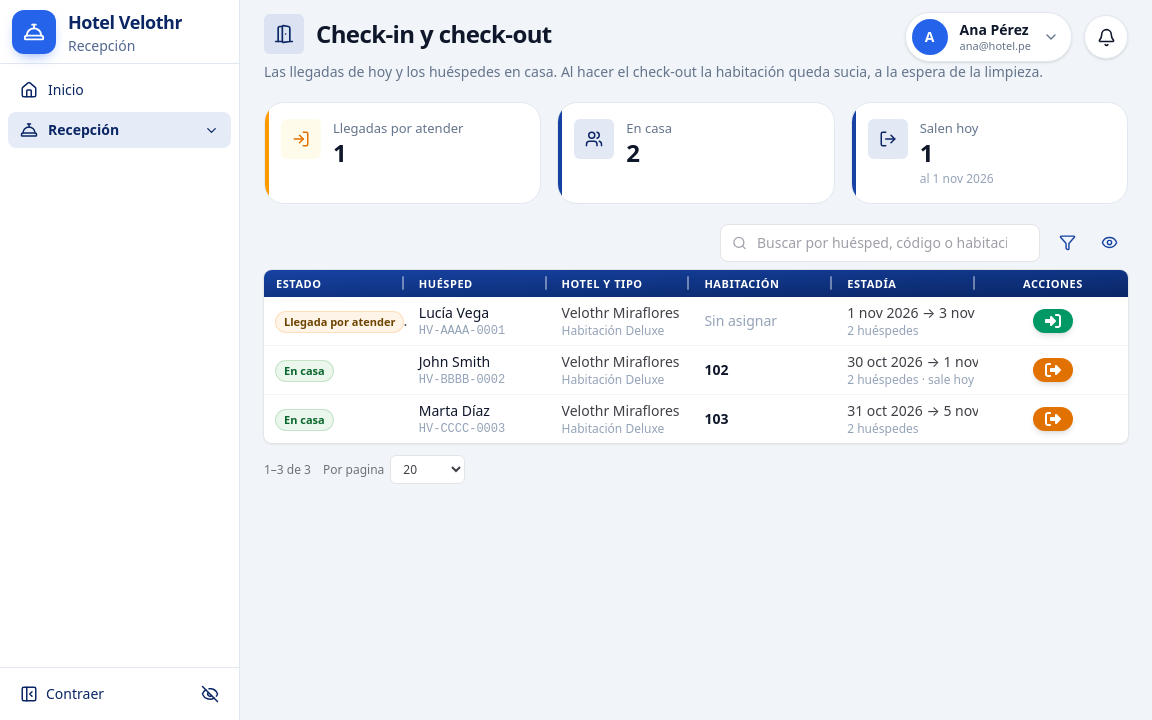
Test: Recepción › si no hay habitaciones limpias lo explica y no deja hacer el check-in
Click the button named "Check-in de Lucía Vega".
click(1053, 321)  # box top-left (1033, 309), bottom-right (1073, 333)
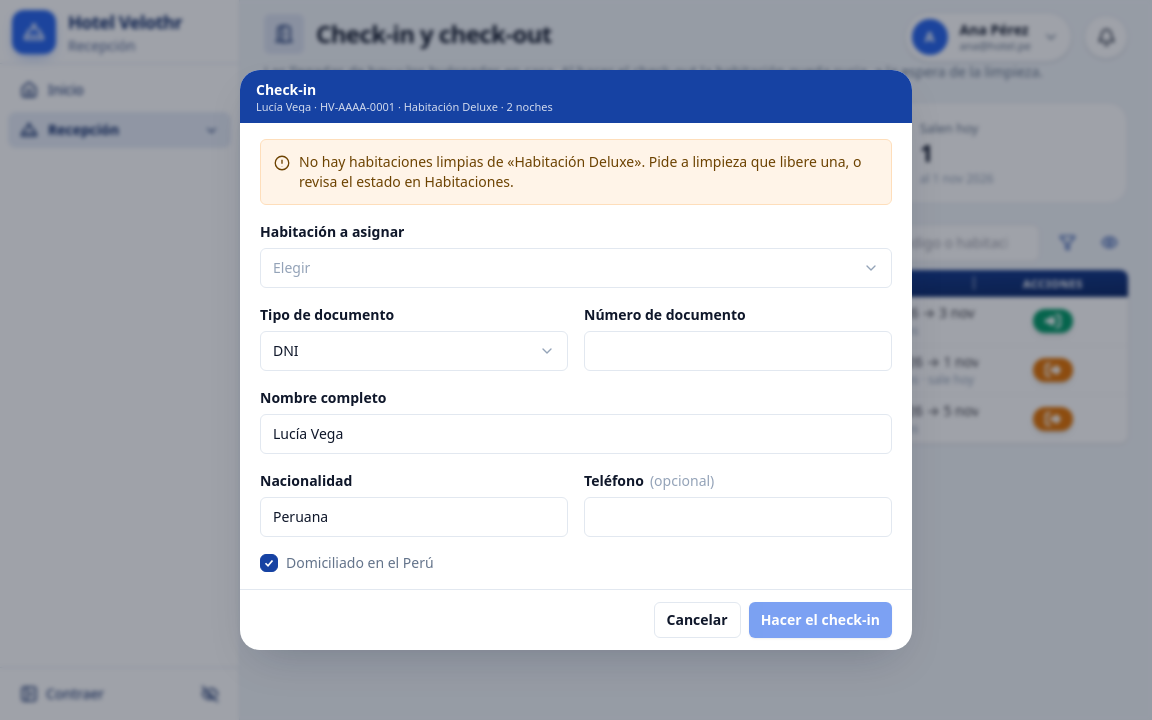
Expected: the text "No hay habitaciones limpias de «Habitación Deluxe»" is shown, top-left (299, 152), bottom-right (879, 192)
Expected: the button "Hacer el check-in" is disabled, top-left (749, 602), bottom-right (892, 638)
